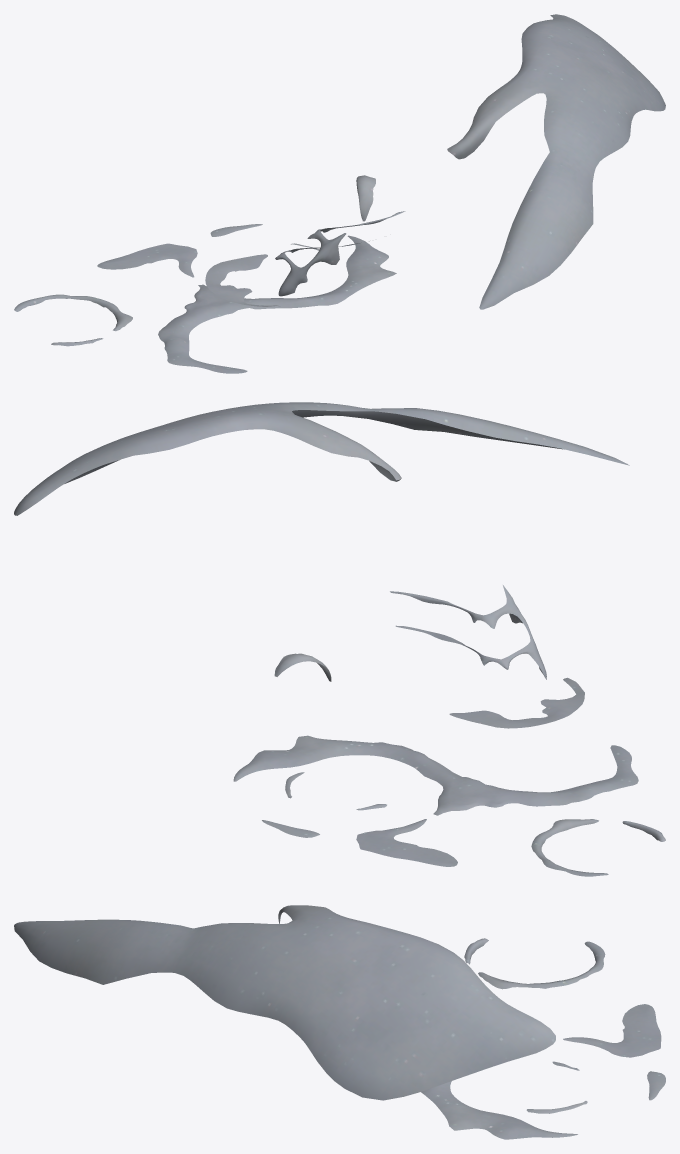
Rendered from pref_sm_beach_winter_originL_lv3.fbx.
The picture shows the model from 3 angles, top to bottom: view 1: azimuth 30°, elevation 25°; view 2: azimuth 150°, elevation 25°; view 3: azimuth 270°, elevation 25°; orthographic projection. The views are drawn at different scales.
Visible parts, largest first — view 1: pref_sm_beach_winter_originL_lv3; view 2: pref_sm_beach_winter_originL_lv3; view 3: pref_sm_beach_winter_originL_lv3.
Part boxes in pixels (left/top/right/bottom): pref_sm_beach_winter_originL_lv3: left=14, top=14, right=665, bottom=373; pref_sm_beach_winter_originL_lv3: left=14, top=402, right=665, bottom=876; pref_sm_beach_winter_originL_lv3: left=14, top=905, right=665, bottom=1139.
Bounding box in the file's own units: 43.76 × 16.6 × 36.85.
